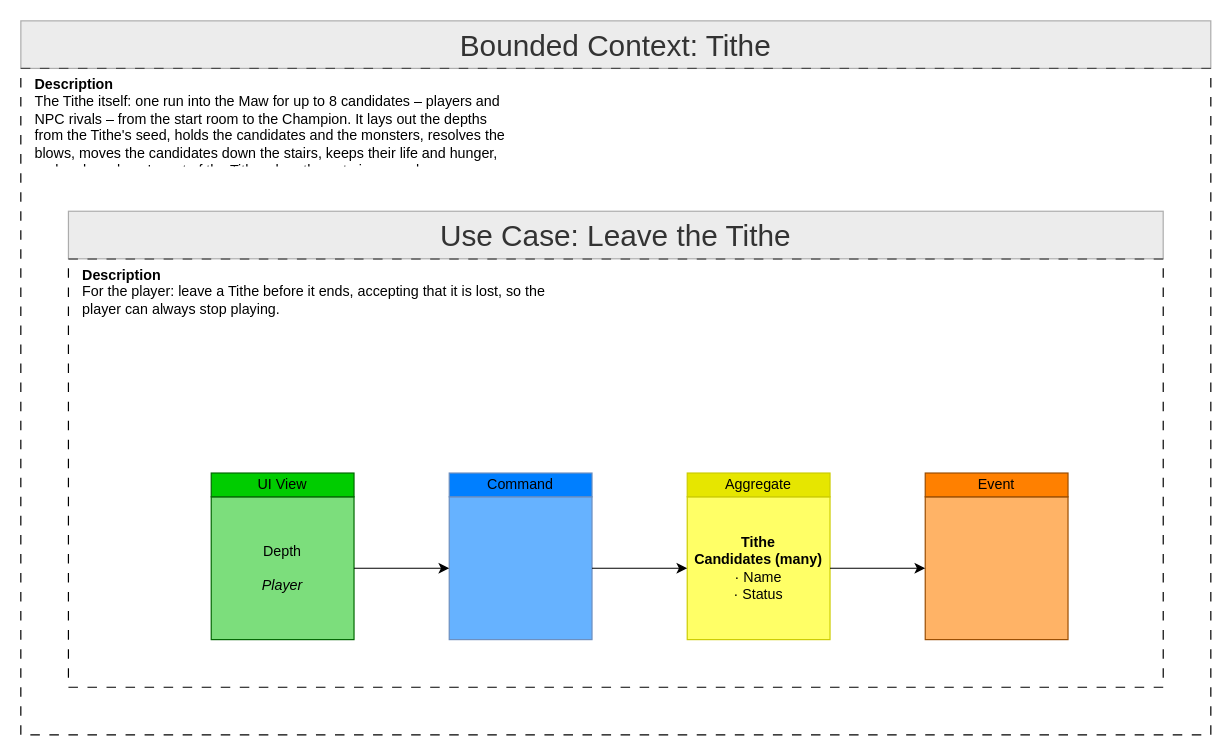
This 1232x756 diagram has some shape labels left out. The centre of each missing label's shape, as x and y in pixels:
Leave the Tithe: [520,568]
Player left: [996,568]
